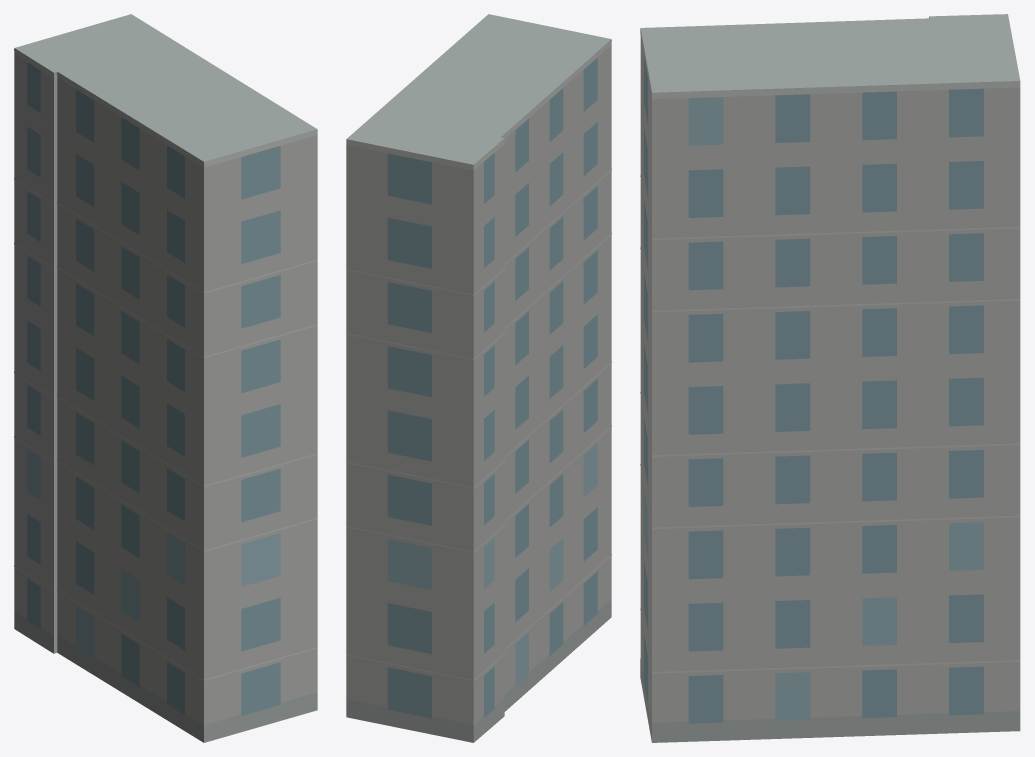
The model's file is survey-upis-32978842.glb.
3 renders of one model, left to right at view 1: azimuth 30°, elevation 25°; view 2: azimuth 150°, elevation 25°; view 3: azimuth 270°, elevation 25°, orthographic. The views are drawn at different scales.
Parts seen in each view (by area): view 1: survey-upis-32978842.tmp; view 2: survey-upis-32978842.tmp; view 3: survey-upis-32978842.tmp.
Part boxes in pixels (<box>): survey-upis-32978842.tmp: <box>14,14,317,742</box>; survey-upis-32978842.tmp: <box>346,14,611,742</box>; survey-upis-32978842.tmp: <box>640,14,1020,742</box>.
Bounding box in the file's own units: 6.26 × 24 × 12.73.
